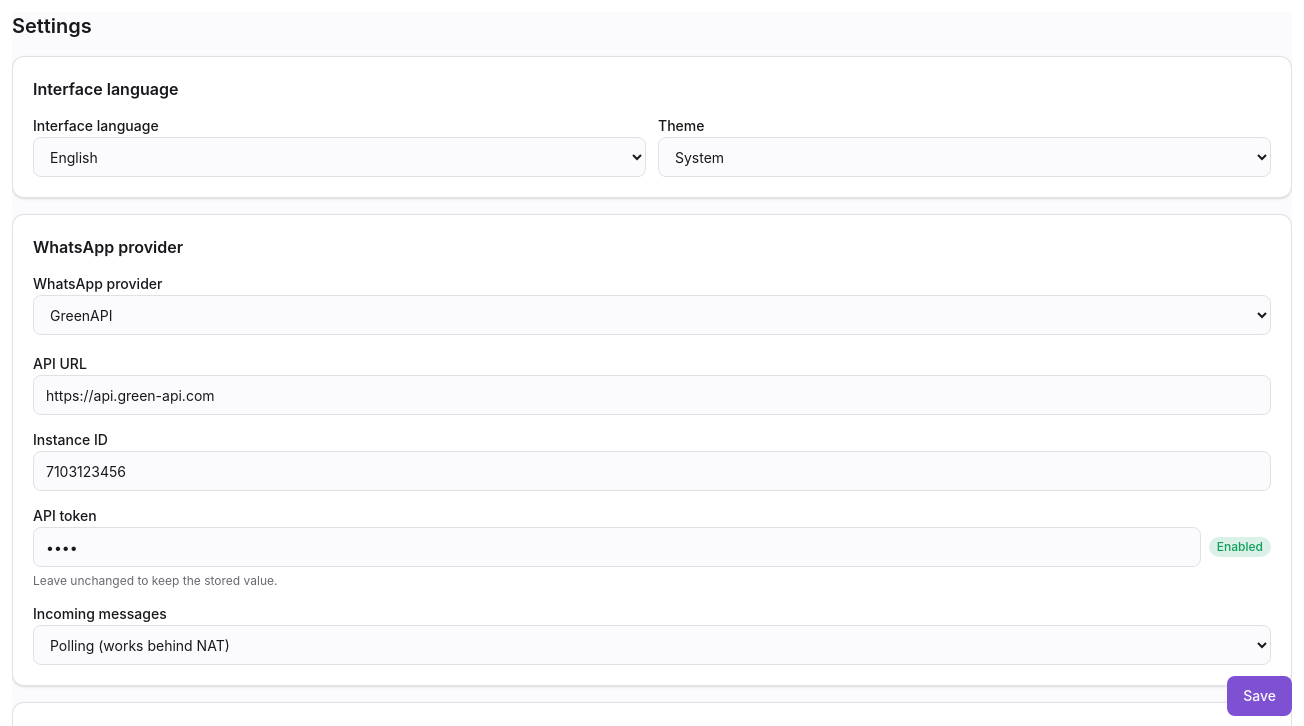
it: feedback › surfaces a provider error returned alongside a successful save
The image size is (1304, 726).
Expected: the field showing "••••" is shown, 33,527 -> 1201,567
Click the button "Save".
click(1260, 696)  # box 1227,676 -> 1292,716
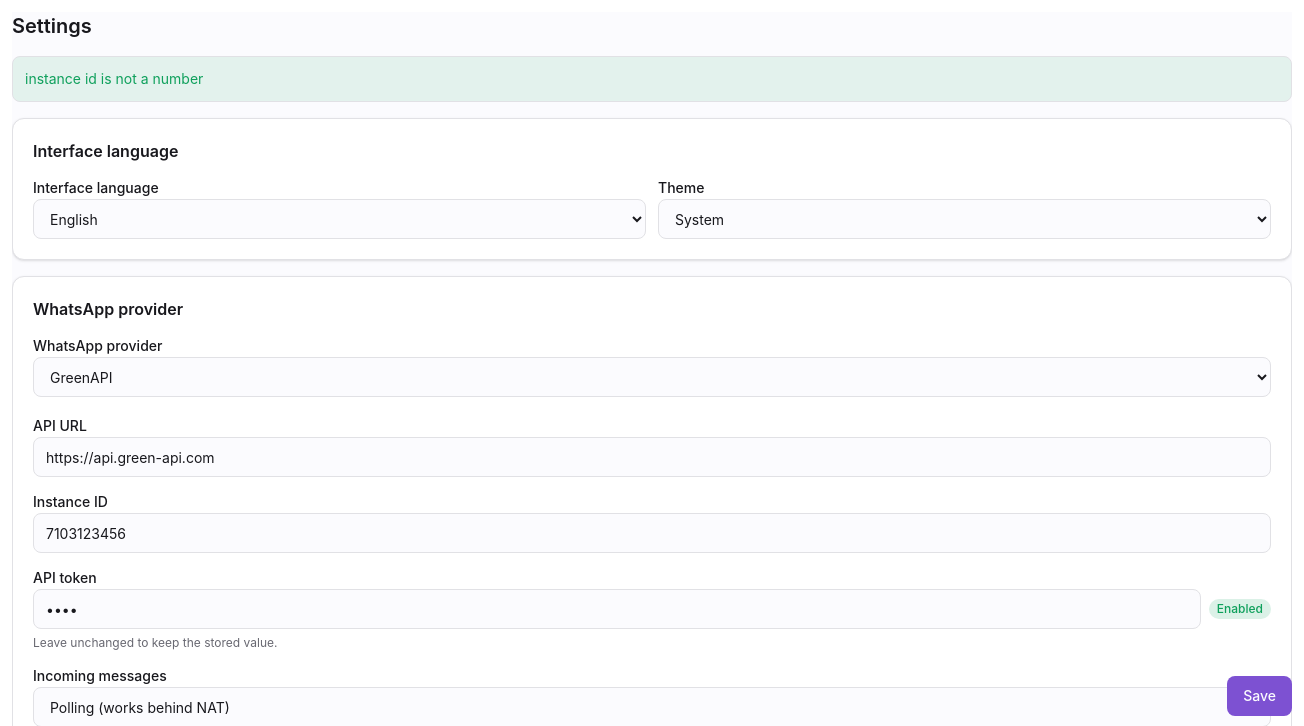
Now the text "instance id is not a number" is shown, box 12,56 -> 1292,102
